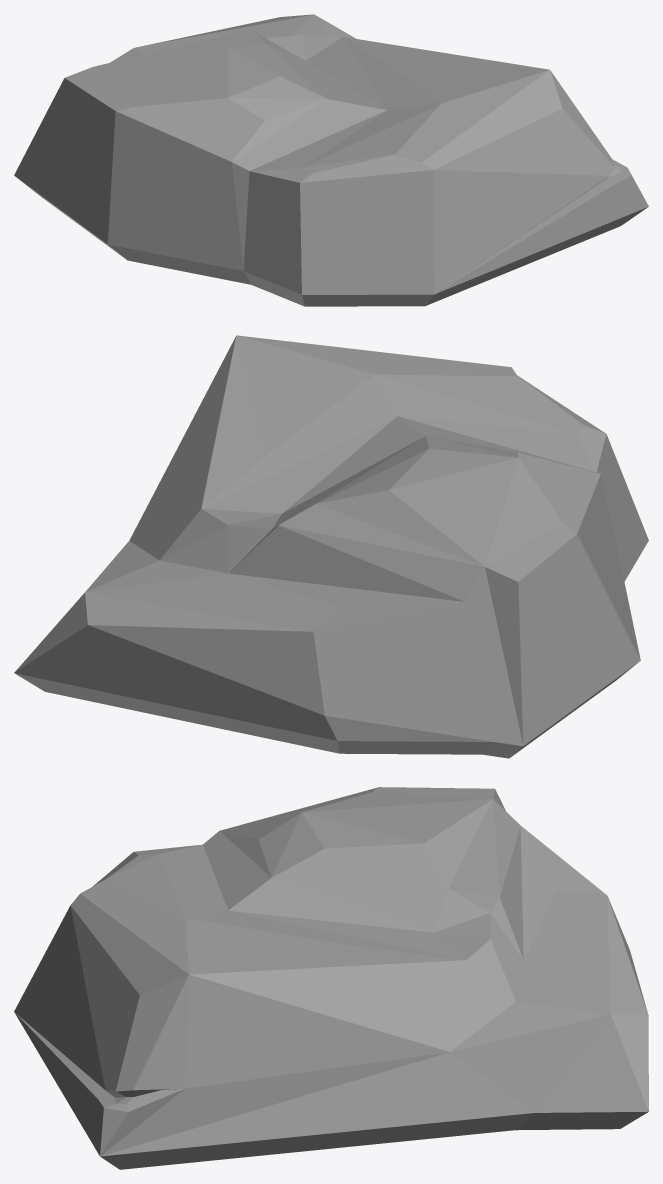
Rendered from rock__rock7_natural_light.glb.
3 renders of one model, top to bottom at view 1: azimuth 30°, elevation 25°; view 2: azimuth 150°, elevation 25°; view 3: azimuth 270°, elevation 25°, orthographic. The views are drawn at different scales.
Parts seen in each view (by area): view 1: rock7.natural.light; view 2: rock7.natural.light; view 3: rock7.natural.light.
Boxes of the visible parts, x1,y1,x2,y2 form: rock7.natural.light: (14,14,648,306); rock7.natural.light: (14,335,648,758); rock7.natural.light: (14,787,648,1169).
Bounding box in the file's own units: 3.3 × 1.06 × 3.46.
Materials: 1 (1 with a texture image).
